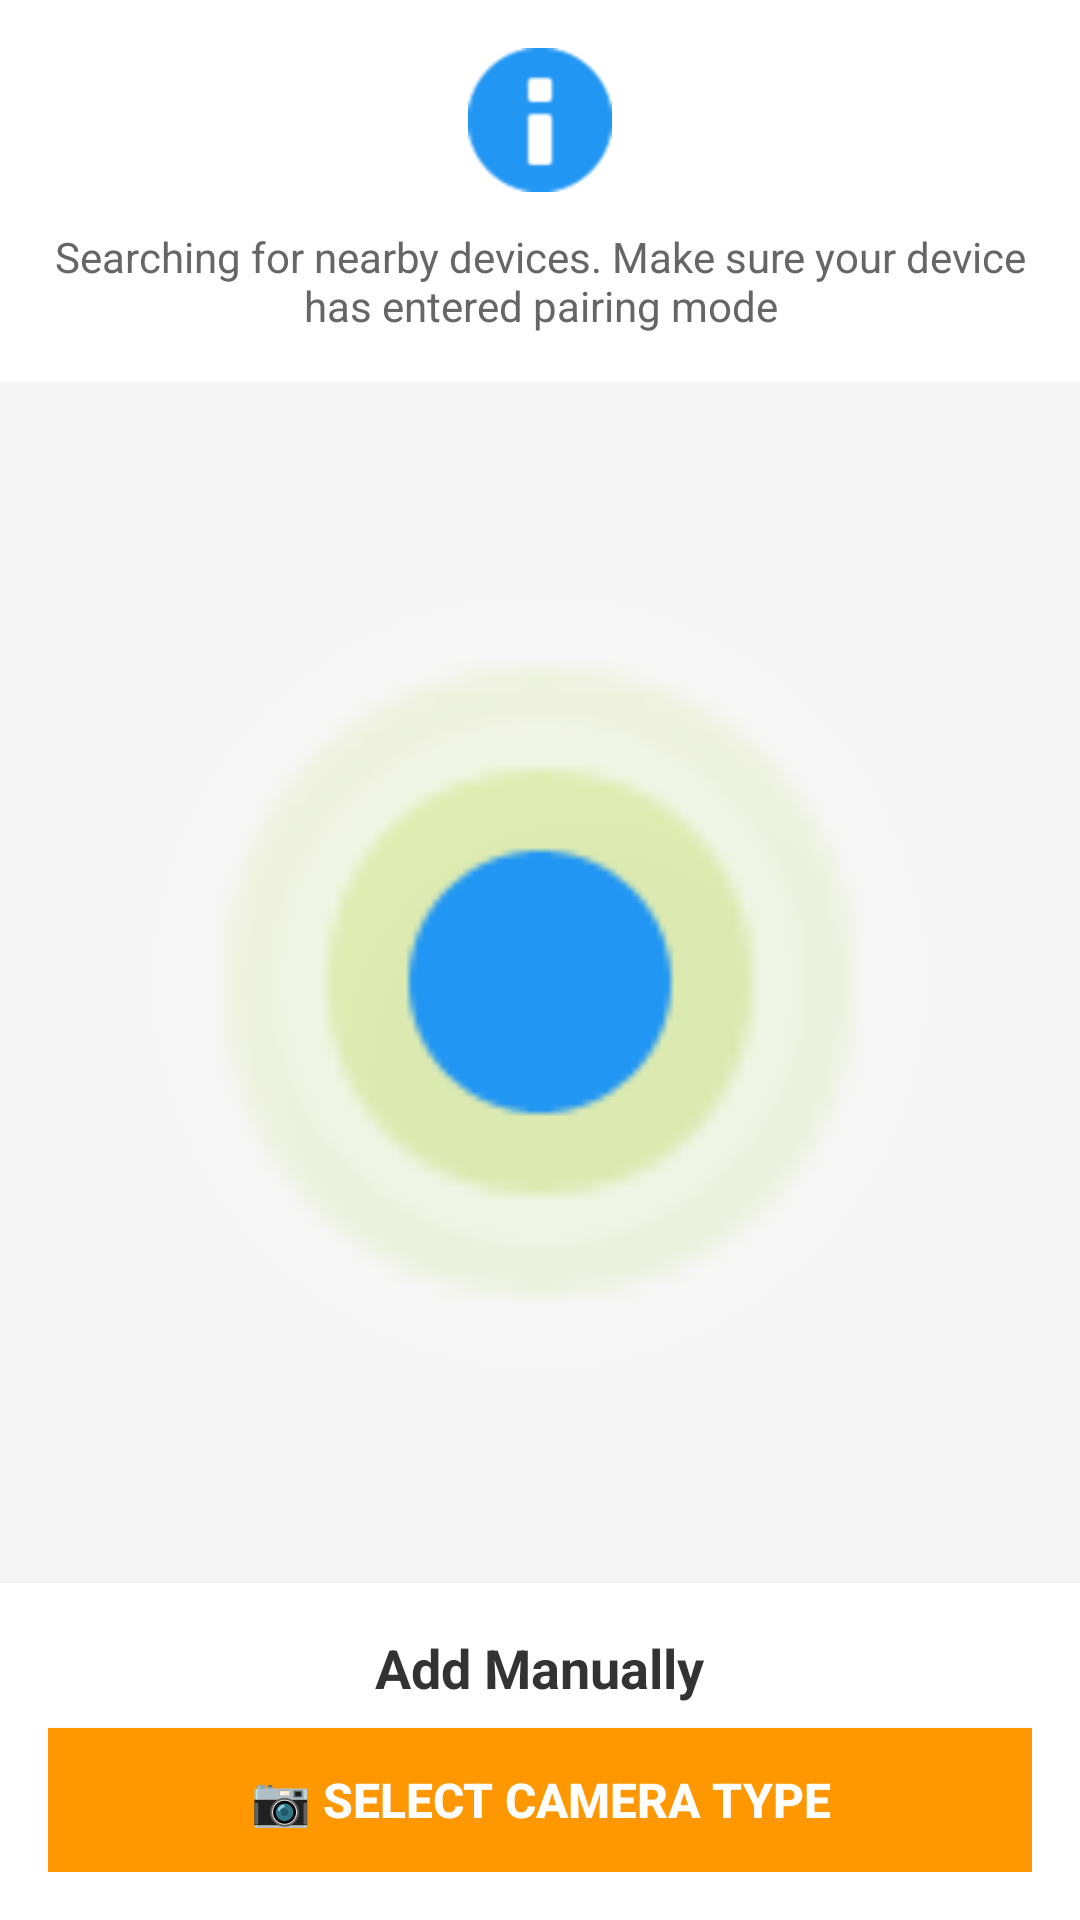

Where icons sit on this 1080px x 1920px app screen, as {"x1": x1, "y1": y1, "x2": x2, "y2": y2}:
Info icon: {"x1": 468, "y1": 48, "x2": 612, "y2": 192}
